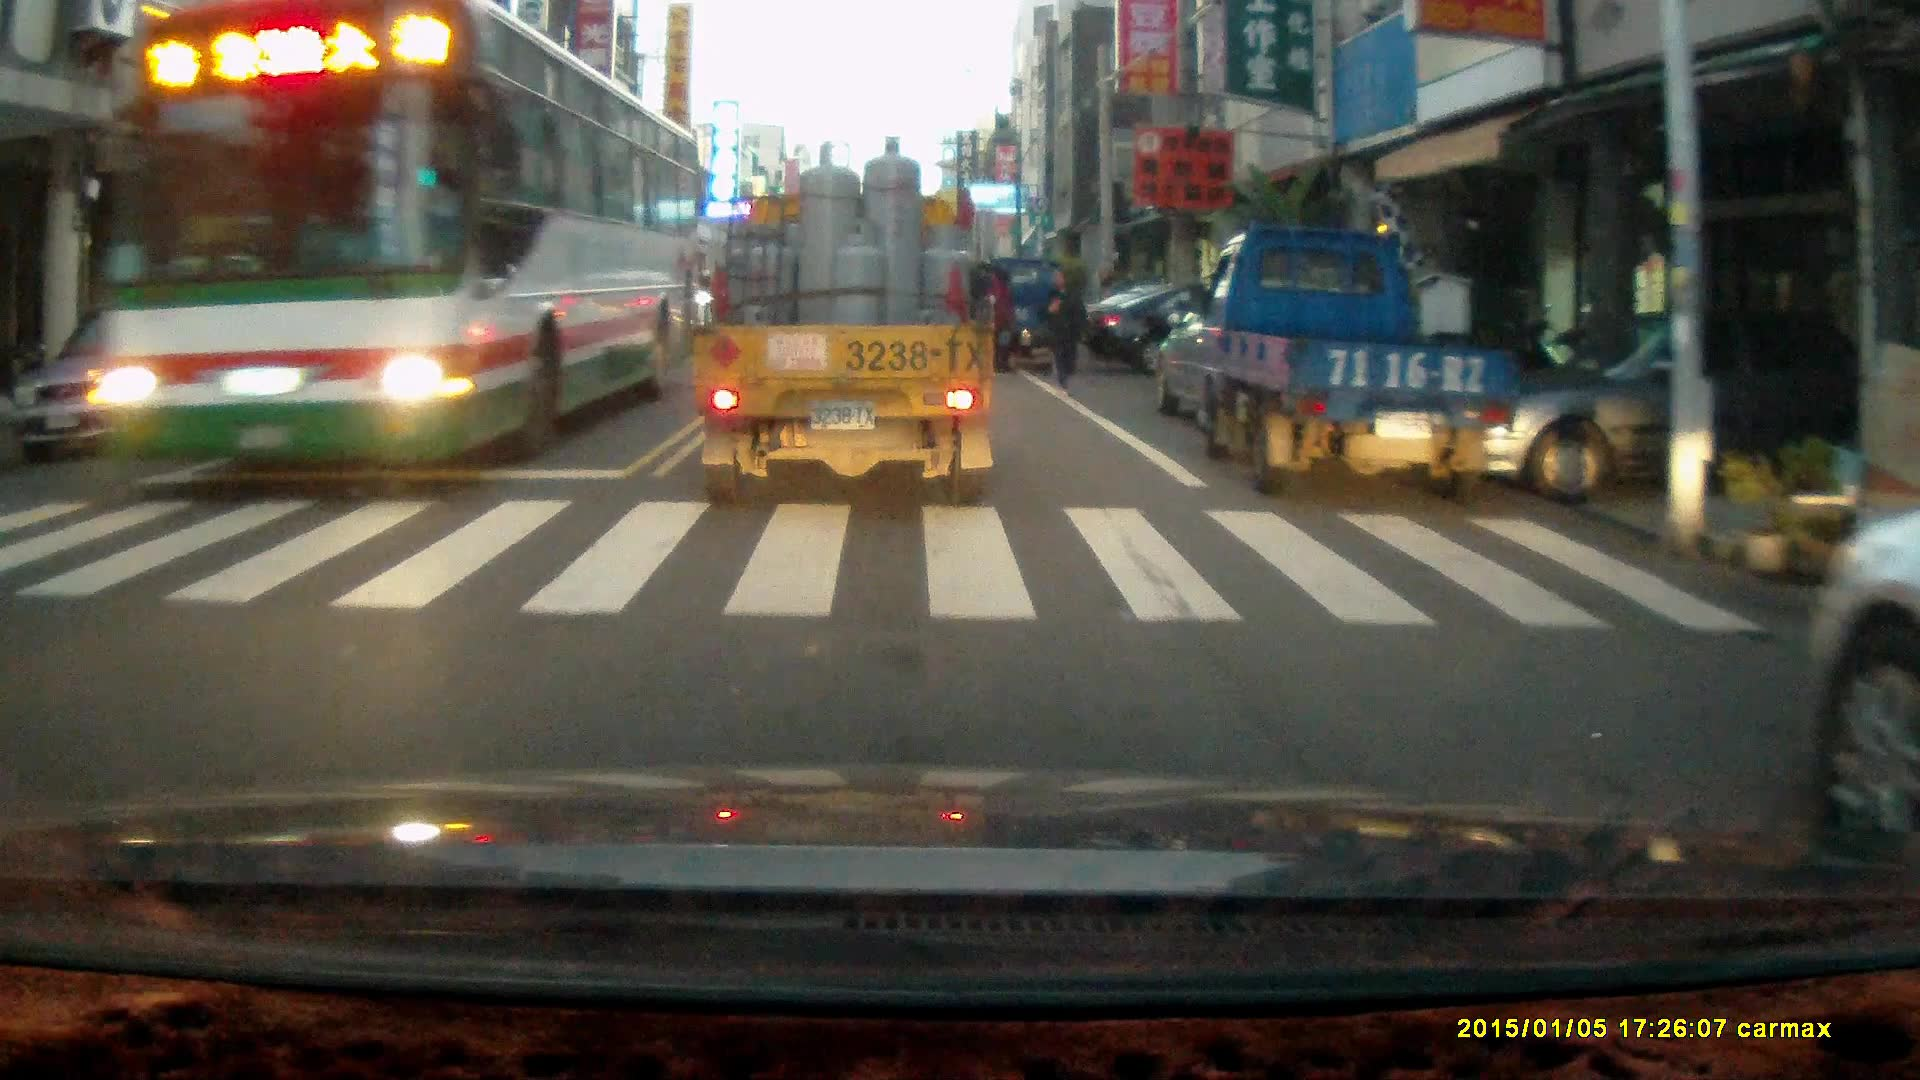pedestrian: (1037, 262, 1091, 390), (982, 262, 1016, 378)
vehicle: (83, 20, 689, 478), (688, 136, 1002, 514), (1178, 224, 1522, 500), (1484, 350, 1873, 496), (9, 290, 276, 470), (1796, 499, 1920, 875), (979, 260, 1090, 379)
